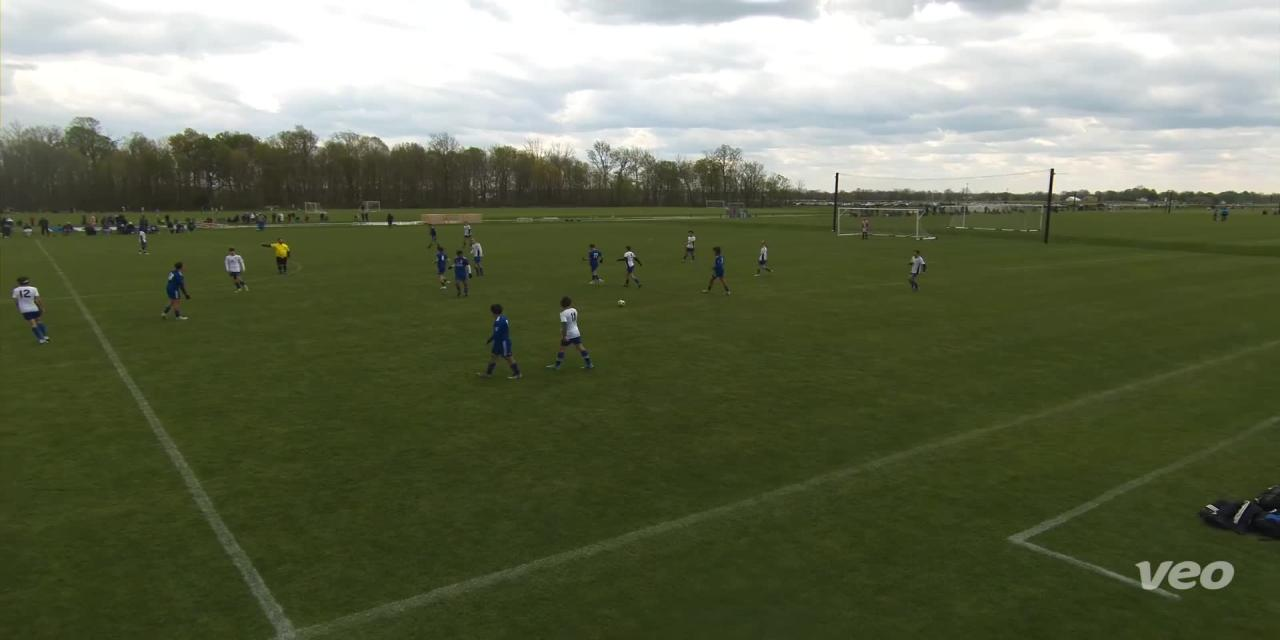goal: (825, 202, 957, 248)
sports ball: (610, 294, 632, 314)
